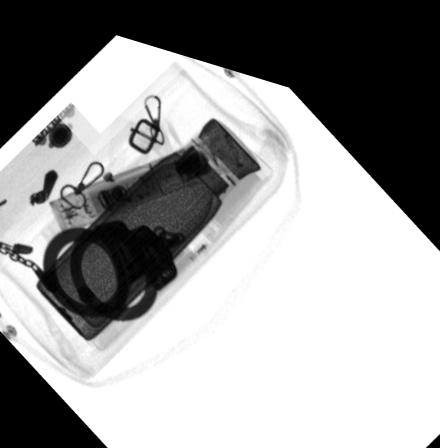Baton: (46, 118, 247, 233)
HandCuffs: (41, 210, 187, 314)
